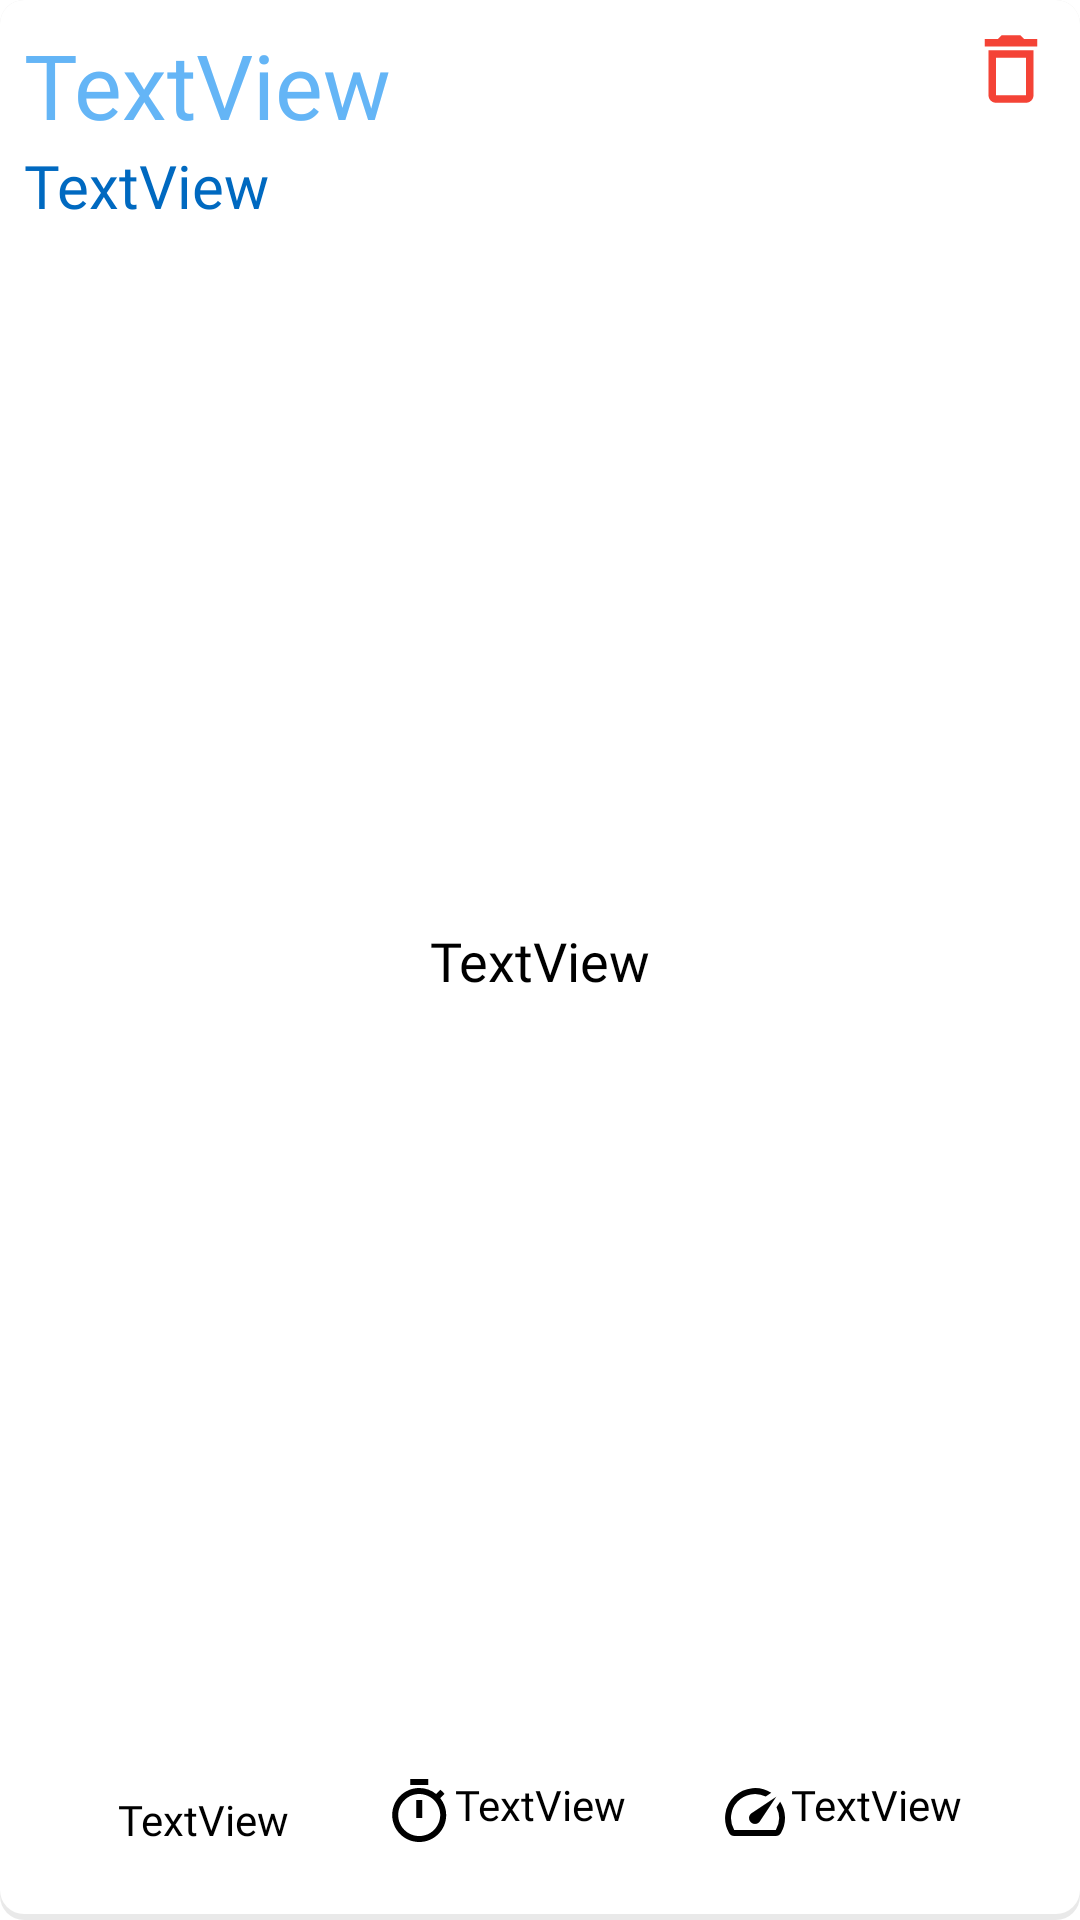

Locate icon controls on the screen. Image size 1080x1920, boxes as (x1, y1, x2, y2).
delete: (984, 35, 1038, 103)
